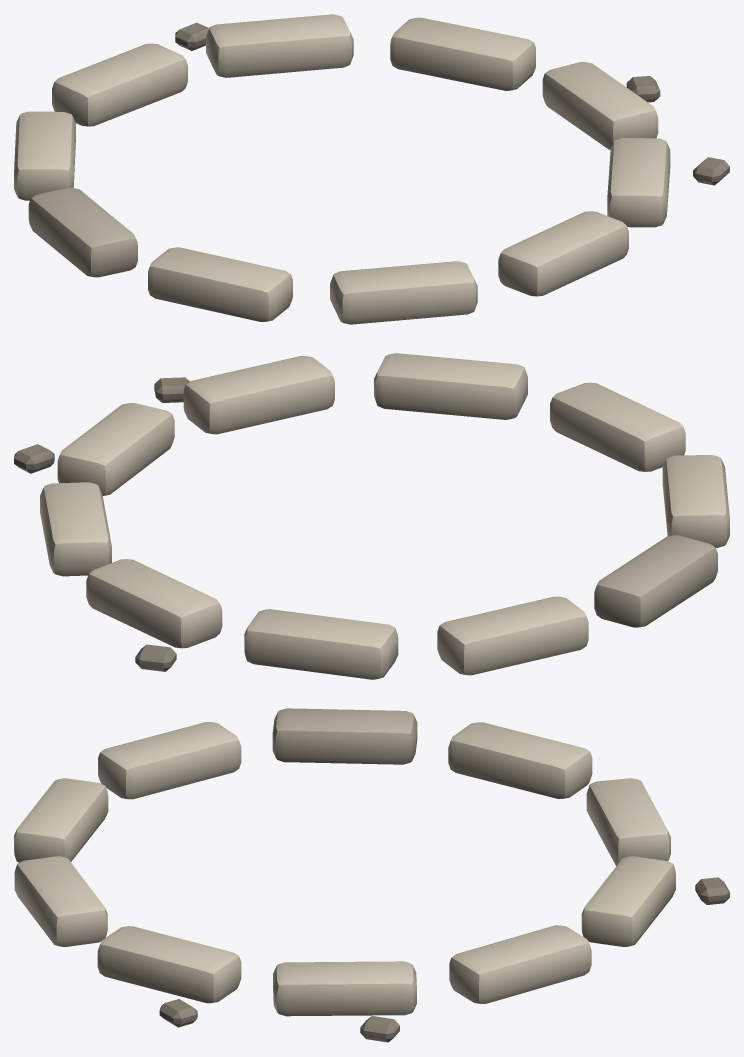
File: slot_ring.glb
3 renders of one model, top to bottom at view 1: azimuth 30°, elevation 25°; view 2: azimuth 150°, elevation 25°; view 3: azimuth 270°, elevation 25°, orthographic. The views are drawn at different scales.
Visible parts, largest first — view 1: SlotRing; view 2: SlotRing; view 3: SlotRing.
Boxes of the visible parts, box(x1,y1,x2,y2) form: SlotRing: box(14, 14, 729, 324); SlotRing: box(14, 353, 729, 679); SlotRing: box(14, 708, 729, 1042).
Size of the model in its own units: 1.2 by 0.07 by 1.2.
1 material, 1 textured.
